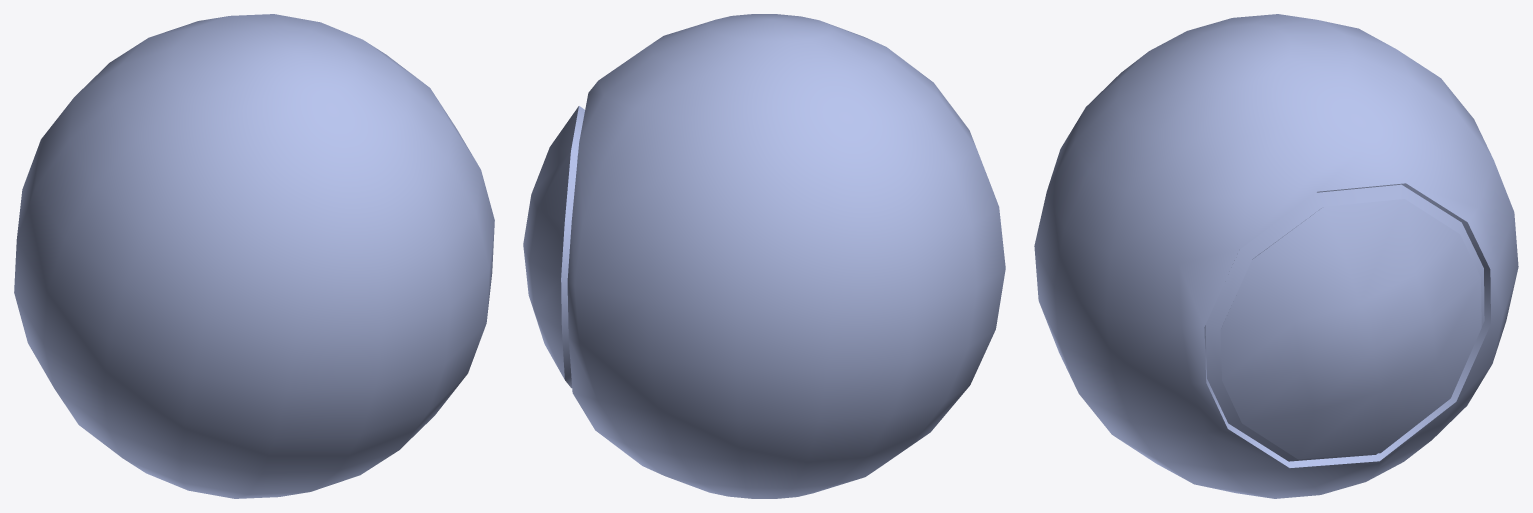
File: Esfera.fbx
3 views of the same model, side by side, from view 1: azimuth 30°, elevation 25°; view 2: azimuth 150°, elevation 25°; view 3: azimuth 270°, elevation 25° (orthographic).
Visible parts, largest first — view 1: Esfera_Vehiculo; view 2: Esfera_Vehiculo; view 3: Esfera_Vehiculo.
Boxes of the visible parts, left/top/right/bottom form: Esfera_Vehiculo: left=14, top=14, right=494, bottom=498; Esfera_Vehiculo: left=523, top=14, right=1005, bottom=498; Esfera_Vehiculo: left=1034, top=14, right=1518, bottom=498.
Bounding box in the file's own units: 2.98 × 3.01 × 3.01.
